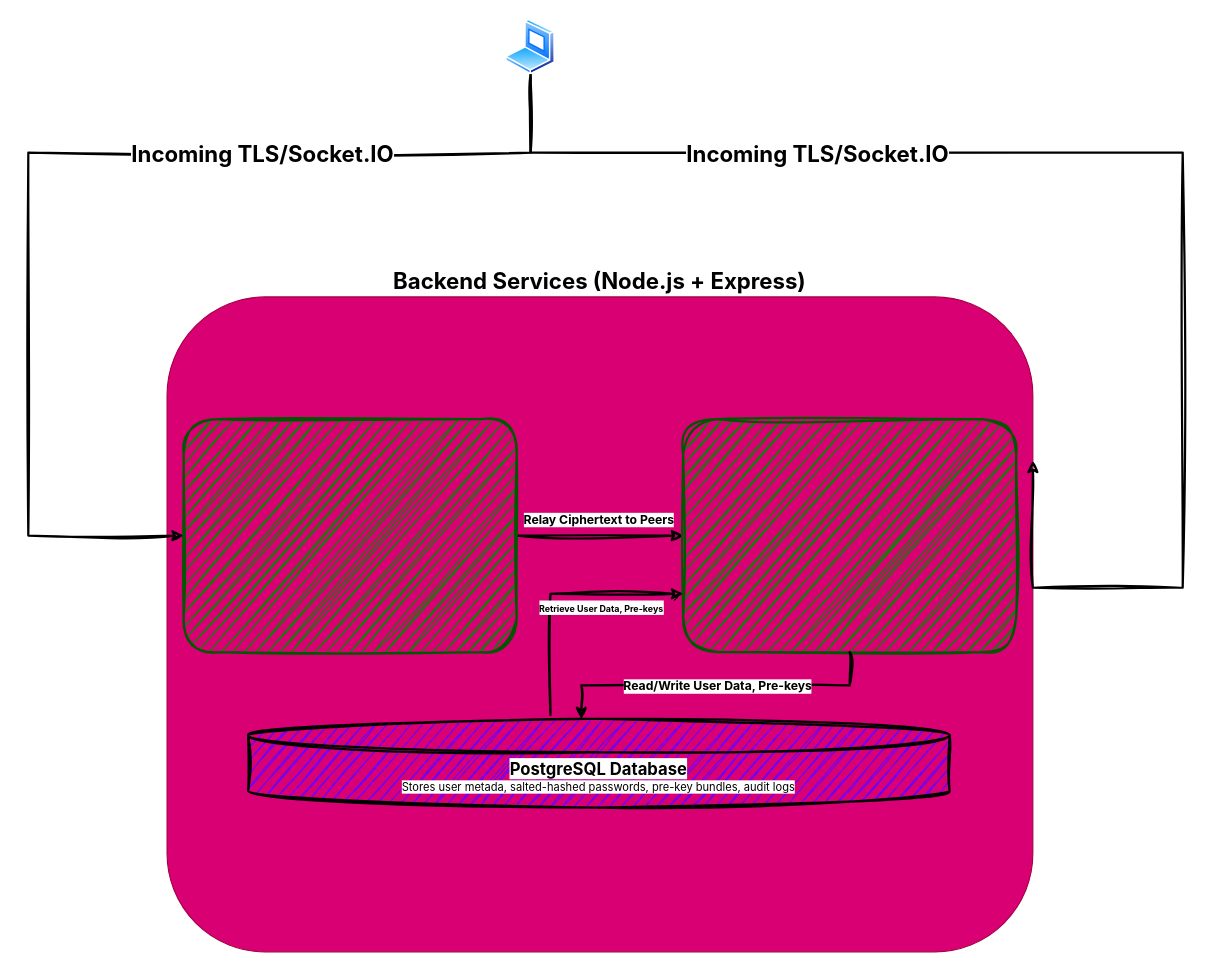
This 1211x971 diagram has some shape labels left out. Each missing label, with the box of its shape:
Express API Endpoints User registration, login, pre-key bundle management: (682, 417, 1017, 653)
Socket.IO Server Receive and relays messages: (182, 417, 517, 653)
